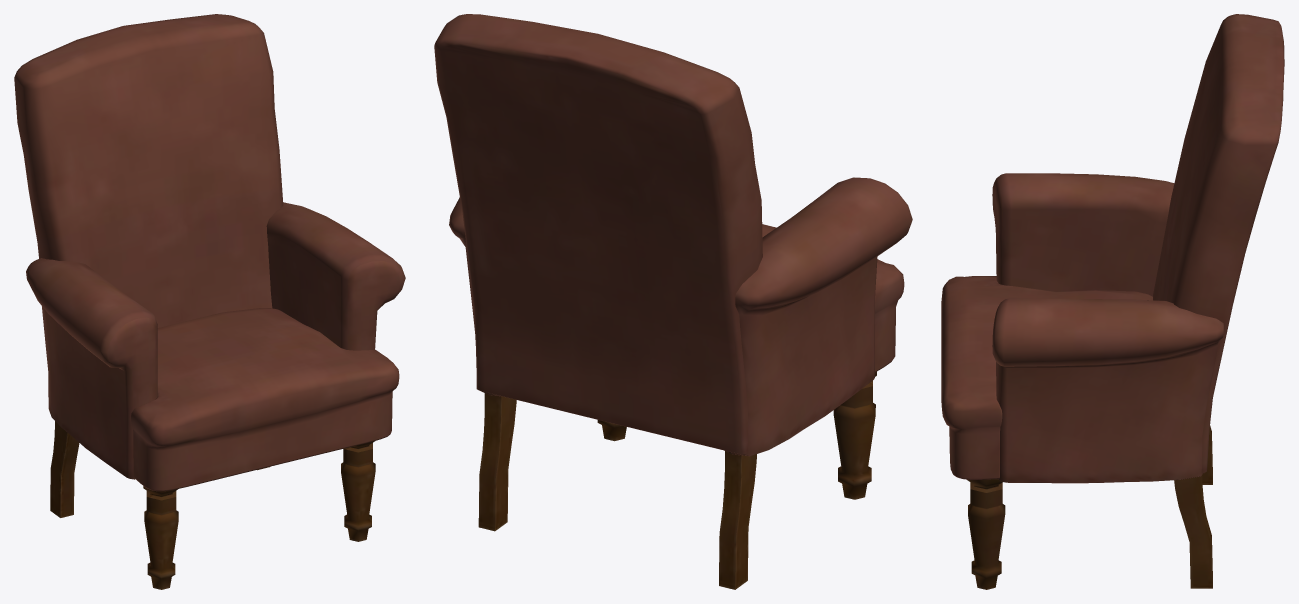
Rendered from armchair-old.gltf.
The picture shows the model from 3 angles, left to right: view 1: azimuth 30°, elevation 25°; view 2: azimuth 150°, elevation 25°; view 3: azimuth 270°, elevation 25°; orthographic projection. The views are drawn at different scales.
Visible parts, largest first — view 1: old_armchair_old_armchair_0; view 2: old_armchair_old_armchair_0; view 3: old_armchair_old_armchair_0.
Part boxes in pixels (bbox=[...]): old_armchair_old_armchair_0: bbox=[14, 14, 405, 589]; old_armchair_old_armchair_0: bbox=[434, 14, 912, 589]; old_armchair_old_armchair_0: bbox=[941, 14, 1284, 589].
Size of the model in its own units: 0.7513 by 1.03 by 0.6755.
1 material, 1 textured.
